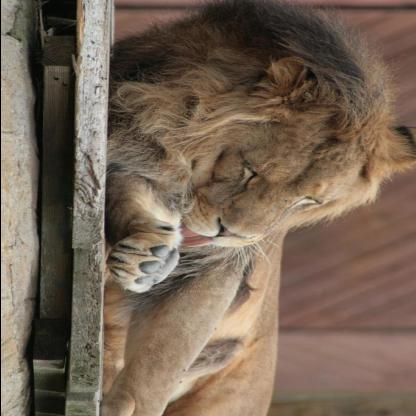lion: (176, 50, 415, 251)
